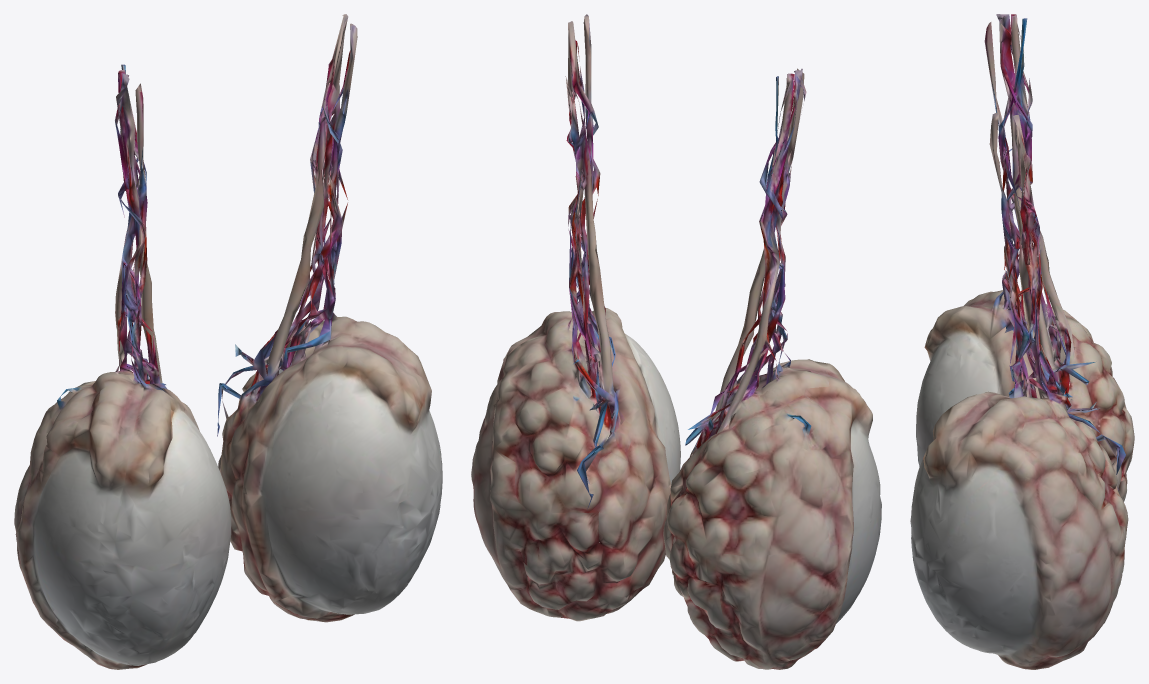
The model's file is testis.glb.
The picture shows the model from 3 angles, left to right: view 1: azimuth 30°, elevation 25°; view 2: azimuth 150°, elevation 25°; view 3: azimuth 270°, elevation 25°; orthographic projection. The views are drawn at different scales.
Parts seen in each view (by area): view 1: tripo_node_912aab16-0efa-473f-8376-98c712e507a9; view 2: tripo_node_912aab16-0efa-473f-8376-98c712e507a9; view 3: tripo_node_912aab16-0efa-473f-8376-98c712e507a9.
Part boxes in pixels (left/top/right/bottom): tripo_node_912aab16-0efa-473f-8376-98c712e507a9: left=14, top=14, right=442, bottom=669; tripo_node_912aab16-0efa-473f-8376-98c712e507a9: left=471, top=14, right=881, bottom=669; tripo_node_912aab16-0efa-473f-8376-98c712e507a9: left=910, top=14, right=1134, bottom=669.
Bounding box in the file's own units: 0.6637 × 0.9802 × 0.3613.
Materials: 1 (1 with a texture image).
